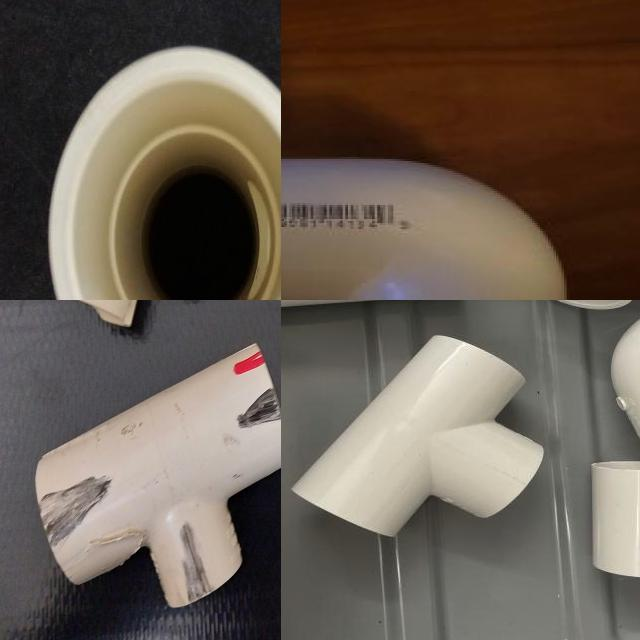Defective: (5, 328, 56, 371), (128, 406, 154, 465), (264, 449, 281, 531), (168, 399, 185, 437)
L Joint: (281, 158, 568, 300), (201, 300, 281, 372)
T Joint: (51, 47, 281, 300), (291, 335, 545, 538), (0, 300, 193, 482), (233, 444, 281, 640)
